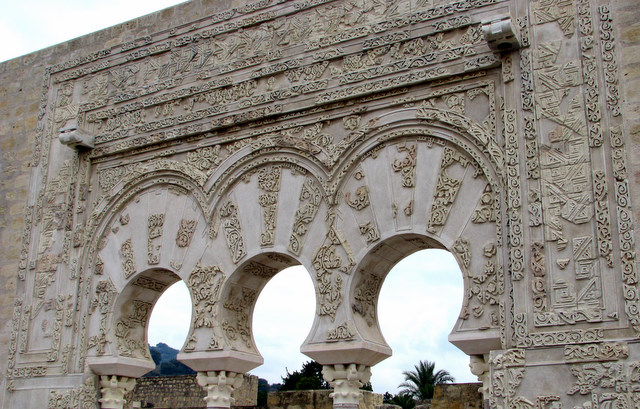arco-herradura: (339, 222, 499, 401), (212, 236, 335, 409), (98, 262, 218, 409)
